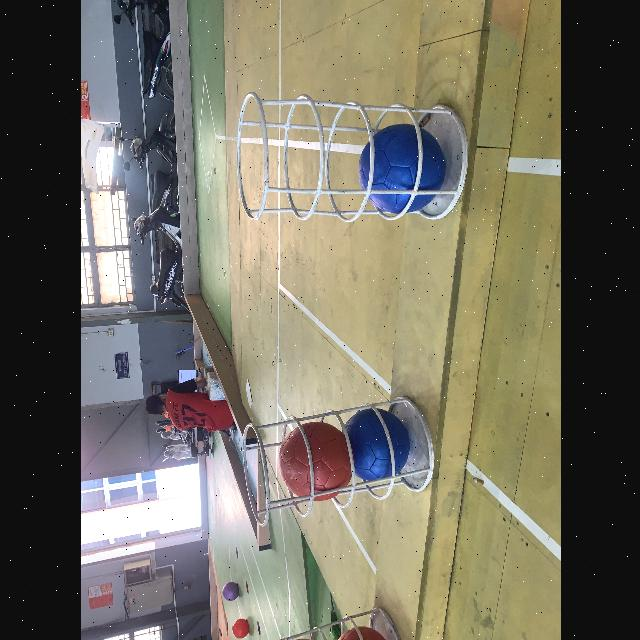B: (357, 123, 449, 211), (346, 404, 414, 481)
R: (274, 416, 348, 512), (334, 624, 394, 640), (272, 628, 334, 640)
